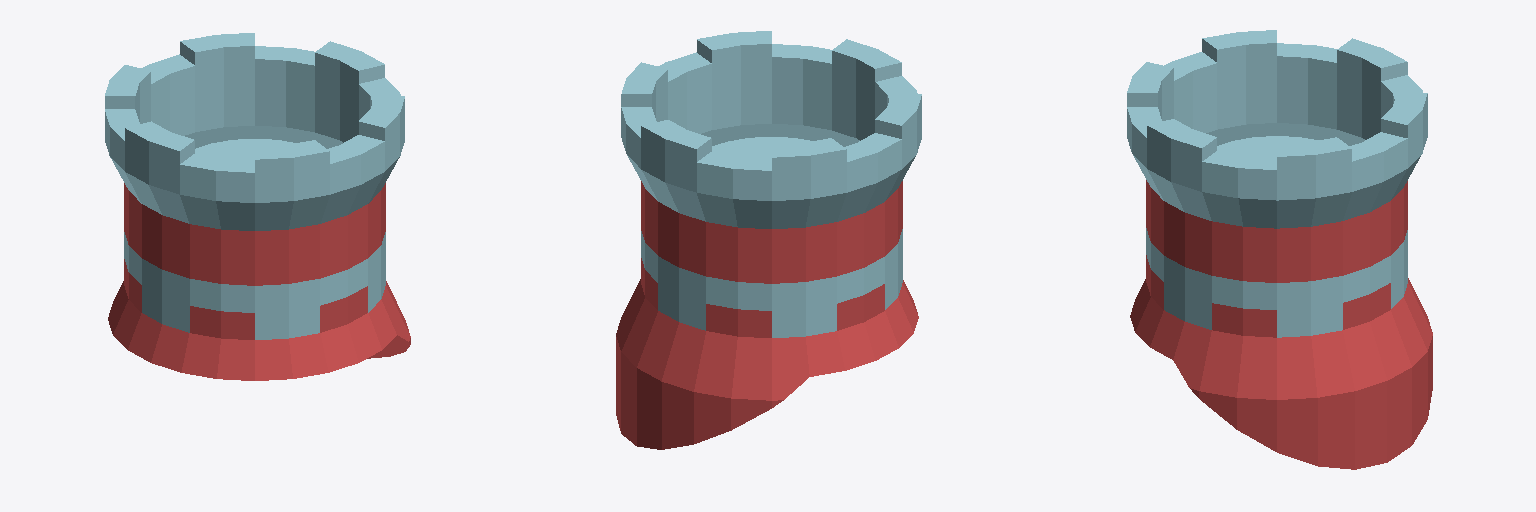
The model's file is CornerDownwardsBase.obj.
The picture shows the model from 3 angles: view 1: azimuth 30°, elevation 25°; view 2: azimuth 150°, elevation 25°; view 3: azimuth 270°, elevation 25°; orthographic projection.
Visible parts, largest first — view 1: towerRound_sampleC.002; view 2: towerRound_sampleC.002; view 3: towerRound_sampleC.002.
Boxes of the visible parts, <box> form: towerRound_sampleC.002: <box>105,33,410,380</box>; towerRound_sampleC.002: <box>616,31,921,449</box>; towerRound_sampleC.002: <box>1127,30,1432,469</box>.
Bounding box in the file's own units: 0.6478 × 0.7532 × 0.6478.